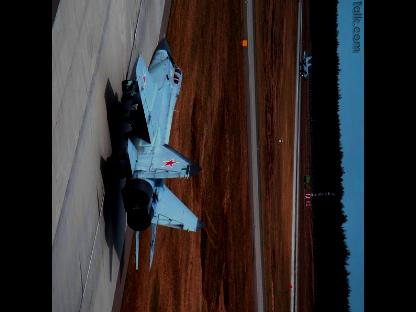Mig31: (108, 32, 206, 270), (300, 48, 312, 82)
